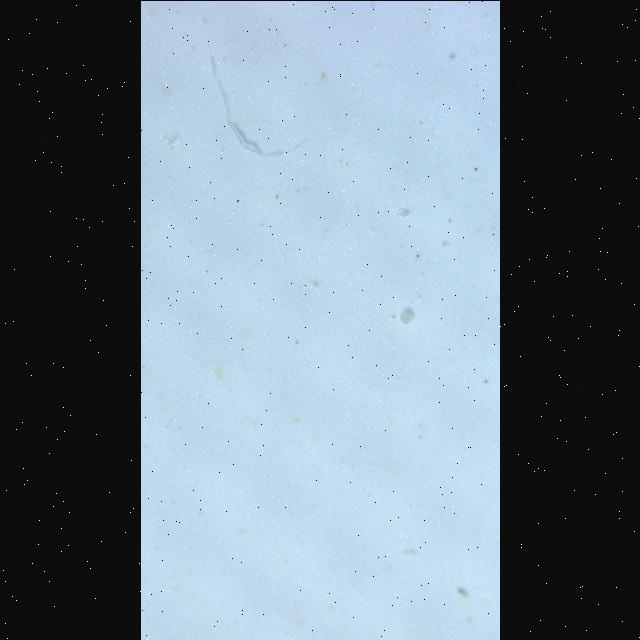Fibre: (207, 43, 303, 155)
Fragment: (399, 307, 413, 323)
